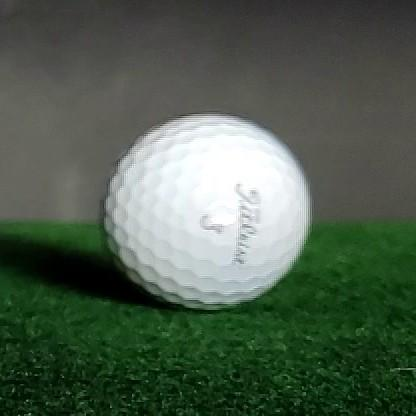golfball: (100, 114, 310, 310)
